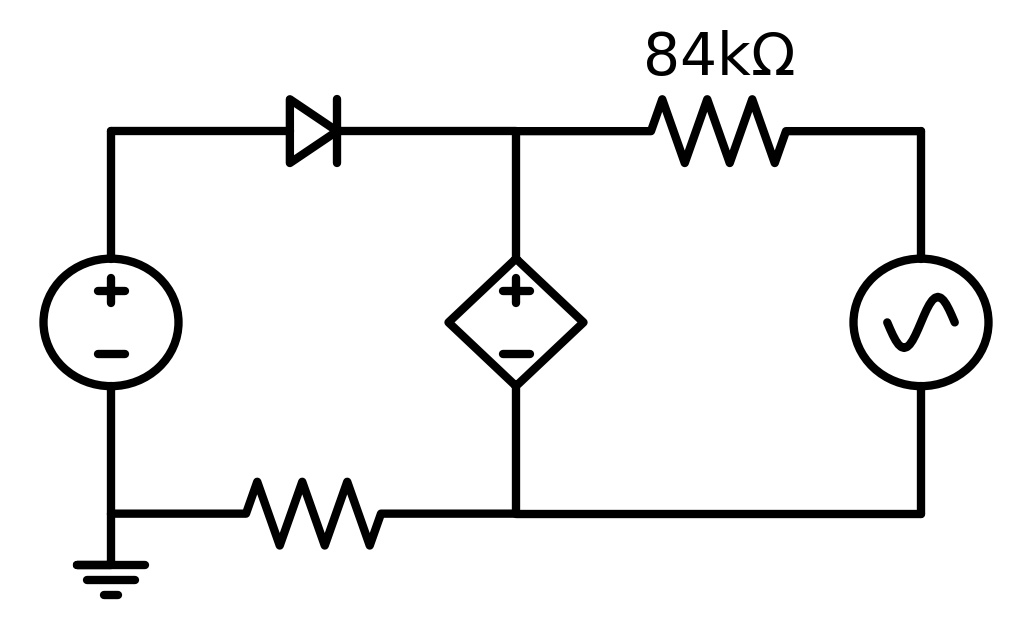diode: (266, 83, 358, 184)
ground: (69, 540, 155, 613)
resistor: (222, 466, 397, 559), (621, 86, 799, 176)
sourceac: (849, 251, 997, 402)
sourcedc: (36, 253, 192, 402)
sourcevc: (439, 249, 592, 404)
